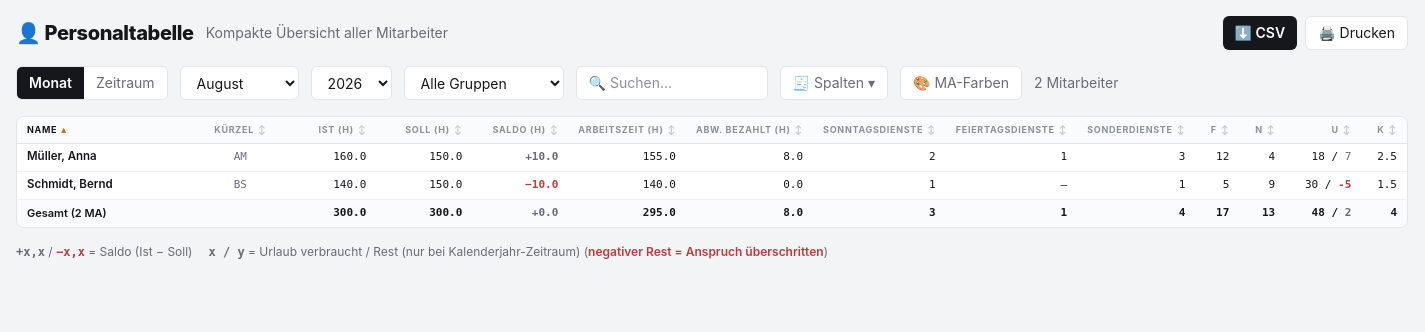
it: Personaltabelle › lädt bei ungültigem Zeitraum (Von > Bis) nicht und zeigt einen Hinweis
Click the button "Zeitraum". click: [125, 83]
box: left=84, top=67, right=167, bottom=99
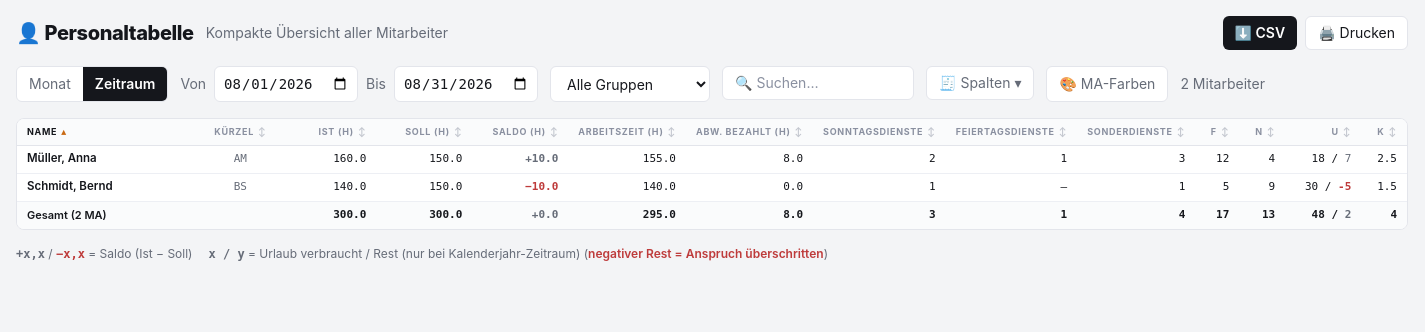
Type "2025-12-31" into the date field named "Von". click: [286, 84]
box: left=214, top=66, right=358, bottom=102
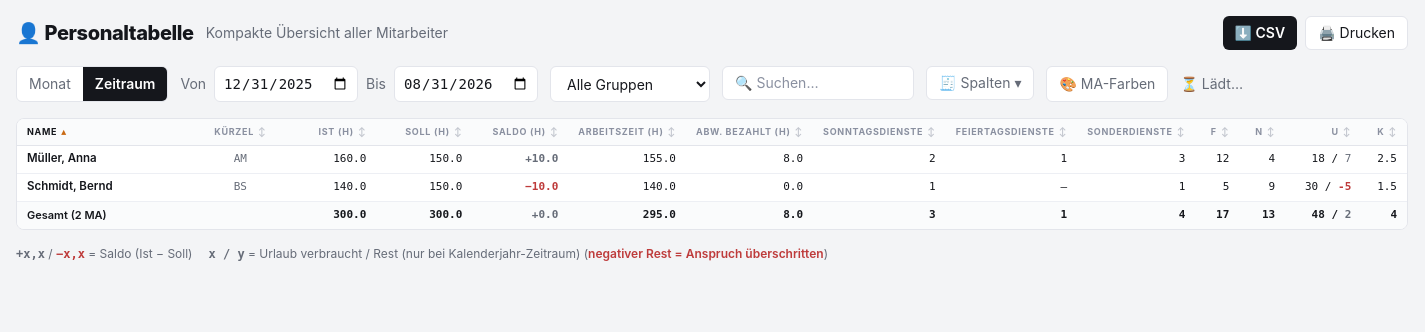
Type "2025-01-01" into the date field named "Bis". click: [466, 84]
box: left=394, top=66, right=538, bottom=102
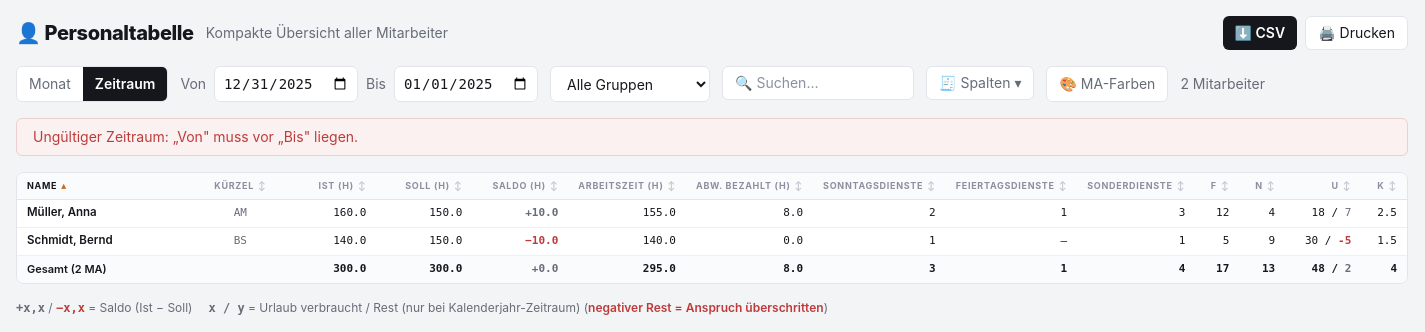
Now the text "Ungültiger Zeitraum: „Von\" muss vor „Bis\" liegen." is shown, box left=16, top=118, right=1408, bottom=156
